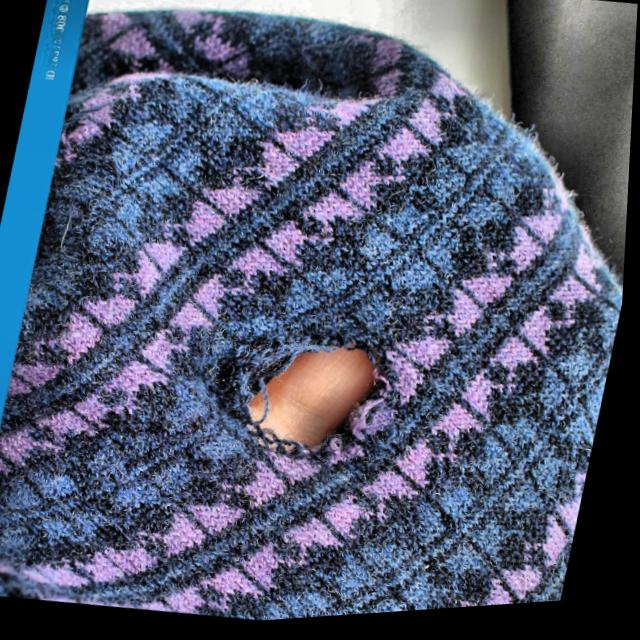Hole: (197, 299, 435, 500)
